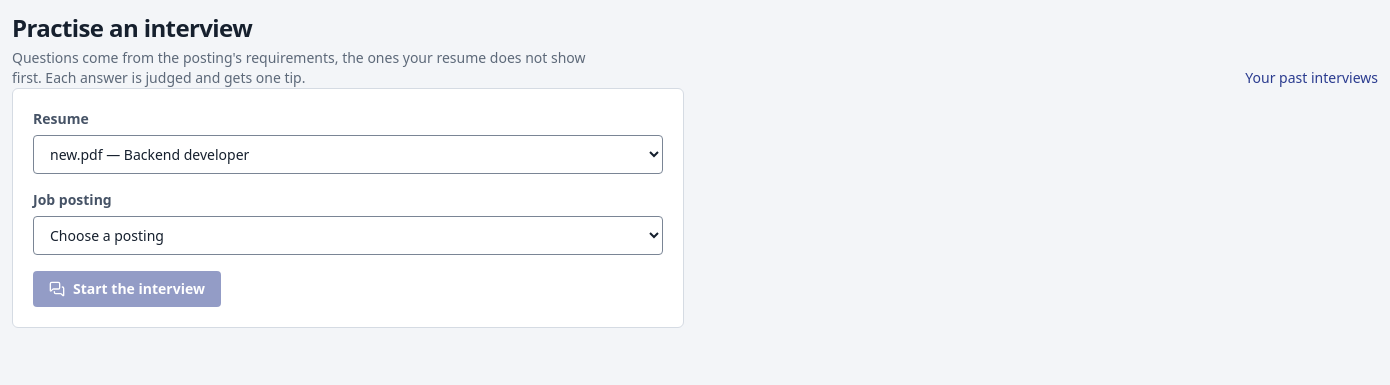
Scenario: a posting without requirements says why there is no interview
Select "Python Developer — DCV" in the dropdown labelled "Job posting" at [348, 236], box x1=33 y1=216 x2=663 y2=255
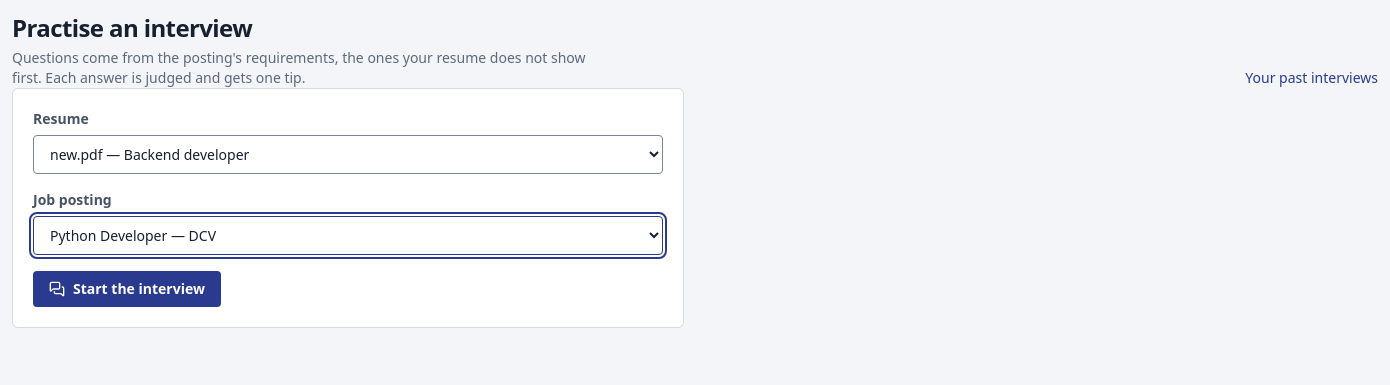
Click the button "Start the interview" at [127, 289], box x1=33 y1=271 x2=221 y2=307
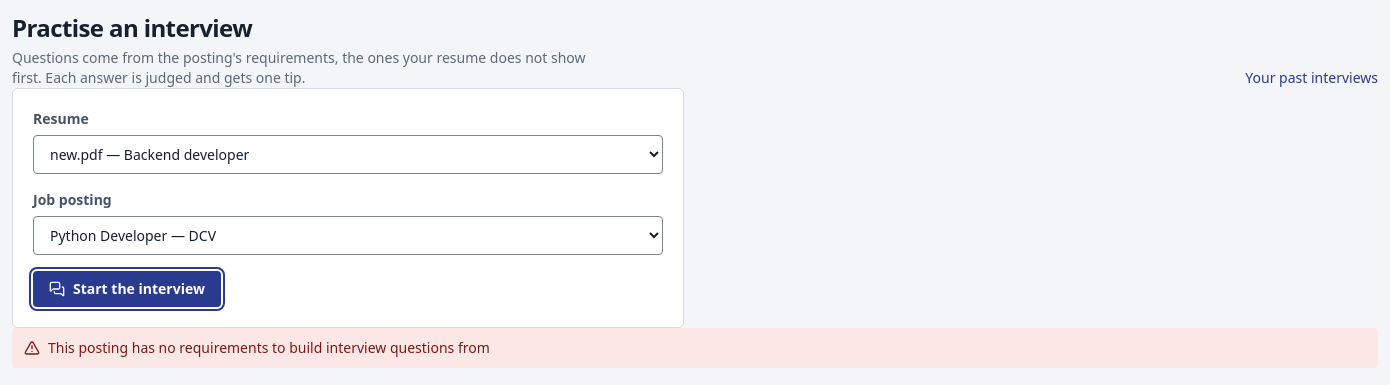
Now the message shows "no requirements", box x1=48 y1=338 x2=490 y2=357
